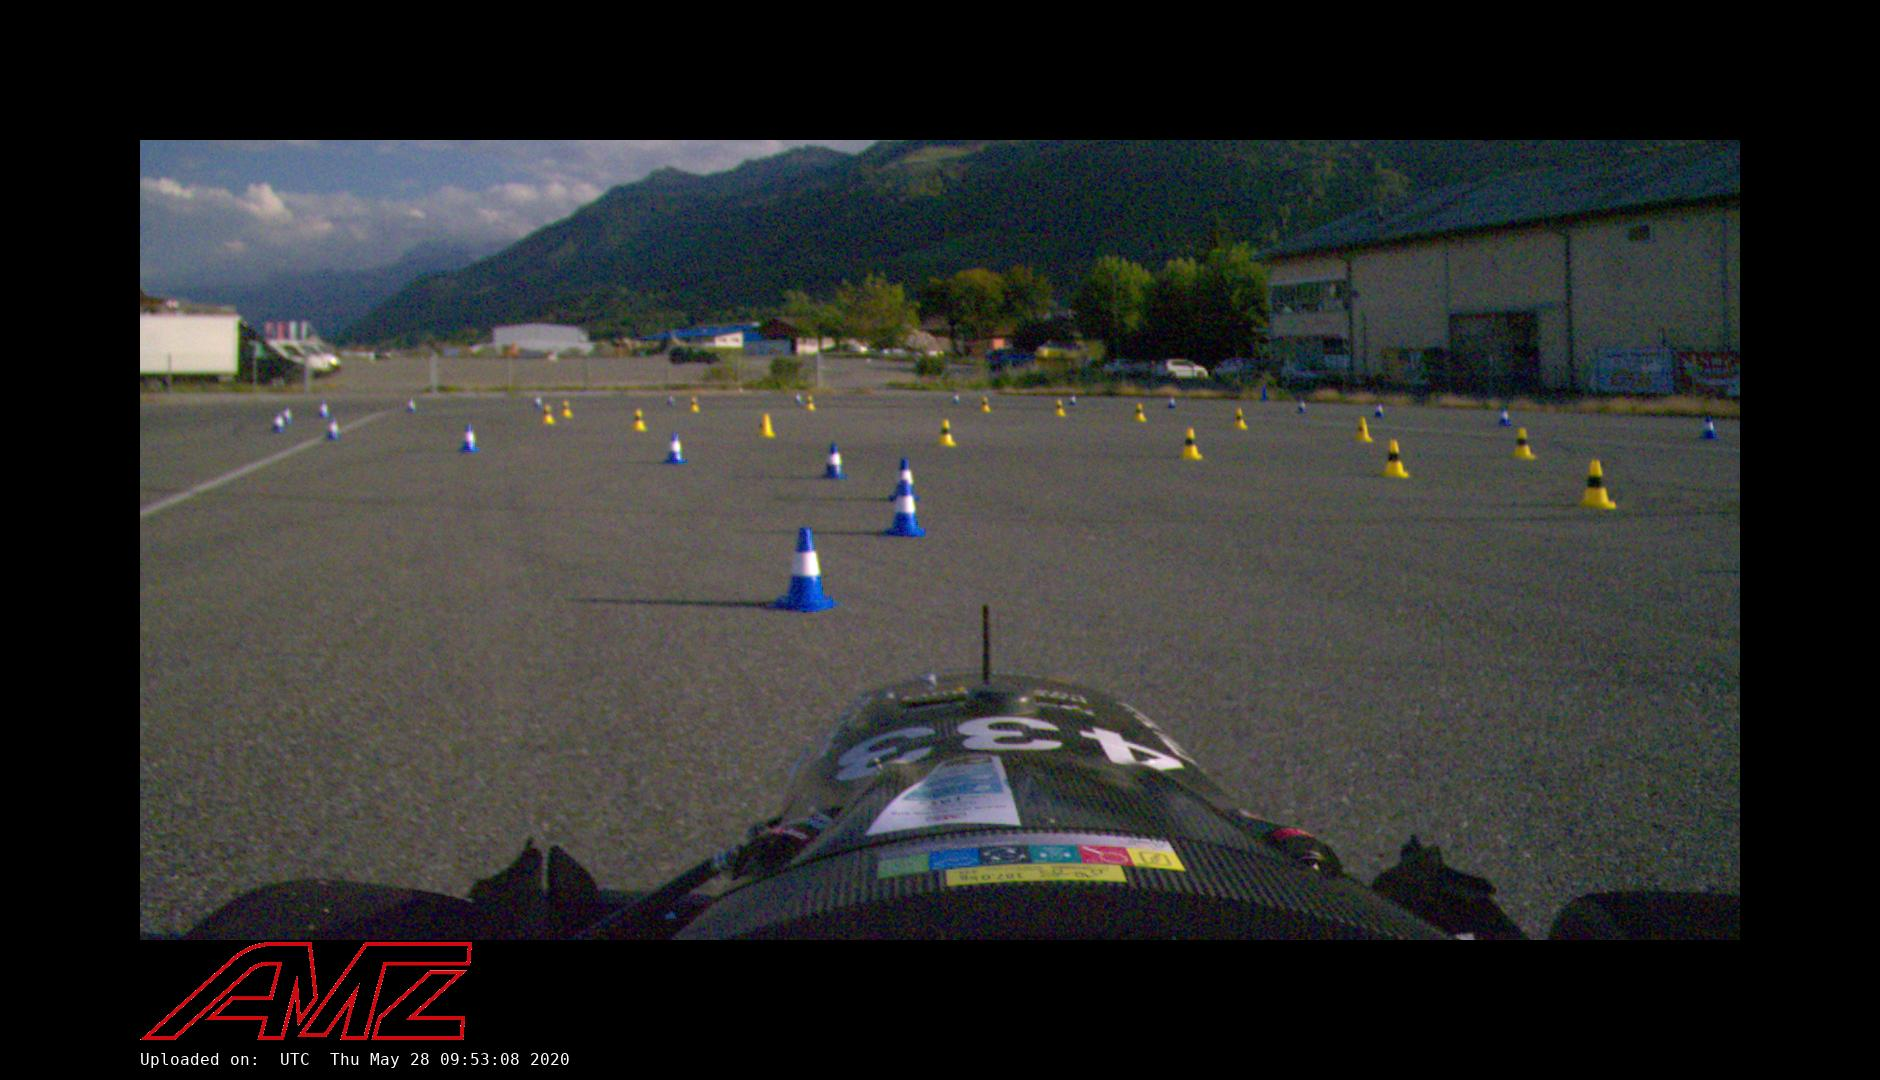blue_cone: (770, 527, 841, 614), (883, 481, 926, 537), (888, 459, 921, 501), (821, 442, 848, 481), (662, 431, 687, 464), (460, 424, 480, 452), (1699, 416, 1720, 441), (325, 419, 343, 441), (272, 412, 285, 433), (1498, 407, 1511, 426), (318, 400, 331, 419), (281, 407, 293, 424), (1374, 403, 1385, 419), (407, 397, 417, 412), (1296, 398, 1307, 413), (794, 393, 804, 407), (535, 395, 544, 408), (1169, 397, 1176, 410), (668, 395, 675, 406), (953, 393, 959, 404), (1070, 395, 1076, 406)
yellow_cone: (1579, 461, 1617, 509), (1380, 441, 1409, 479), (1509, 428, 1535, 460), (1180, 428, 1203, 461), (936, 420, 957, 447), (757, 413, 776, 438), (1354, 417, 1373, 443), (631, 410, 649, 431), (1231, 408, 1249, 430), (1132, 403, 1147, 422), (542, 406, 557, 424), (688, 397, 701, 413), (1055, 399, 1067, 417), (562, 400, 573, 417), (980, 397, 990, 411), (806, 397, 816, 411)
